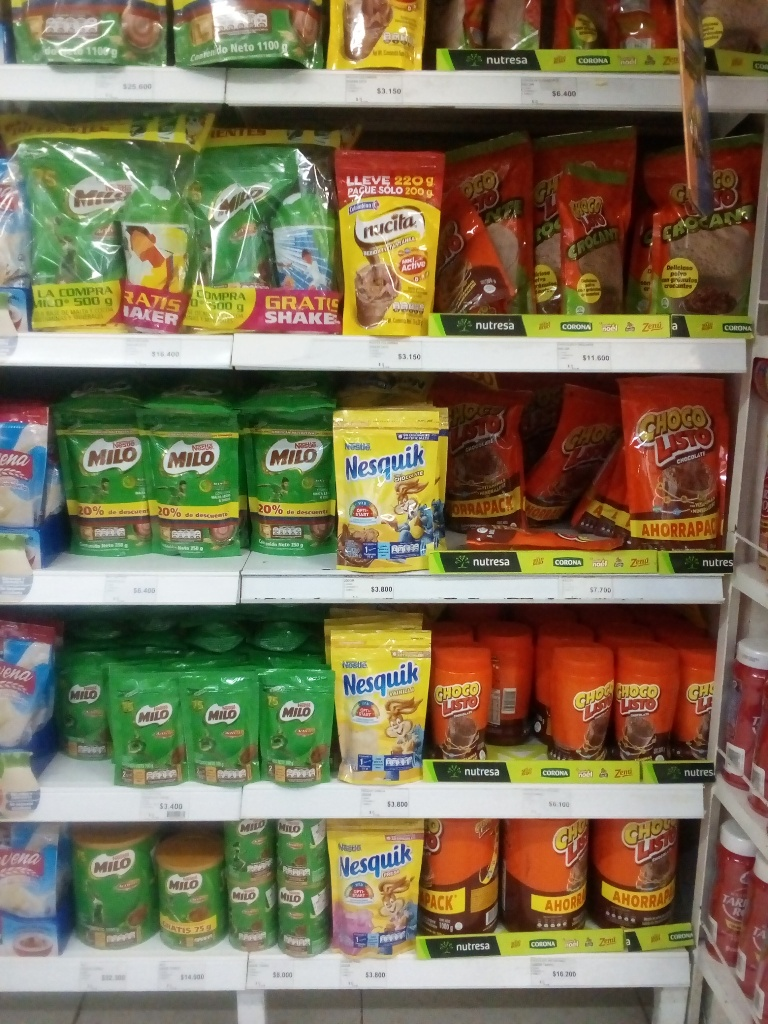COL0170102DYP25000: (567, 170, 642, 313)
COL0170102DYP50000: (443, 132, 543, 314)
COL0170103DYP40000: (611, 379, 738, 555)
COL0170103TRR00100: (420, 818, 502, 934)
COL0170103TRR30000: (431, 641, 487, 762)
COL0170203DYP10000: (106, 664, 185, 794)
COL0170203DYP25000: (52, 406, 157, 562)
COL0170203DYP50000: (22, 129, 126, 282)
COL0170203LAT20000: (229, 821, 278, 881)
COL0170303DYP20000: (329, 402, 452, 573)
COL0170305DYP20000: (323, 813, 425, 958)
COL0170306DYP20000: (329, 606, 430, 785)
